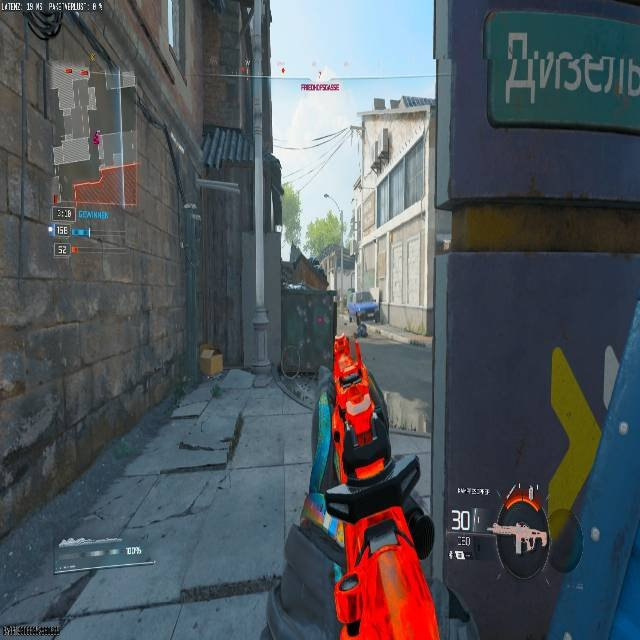player: (355, 320, 368, 338)
